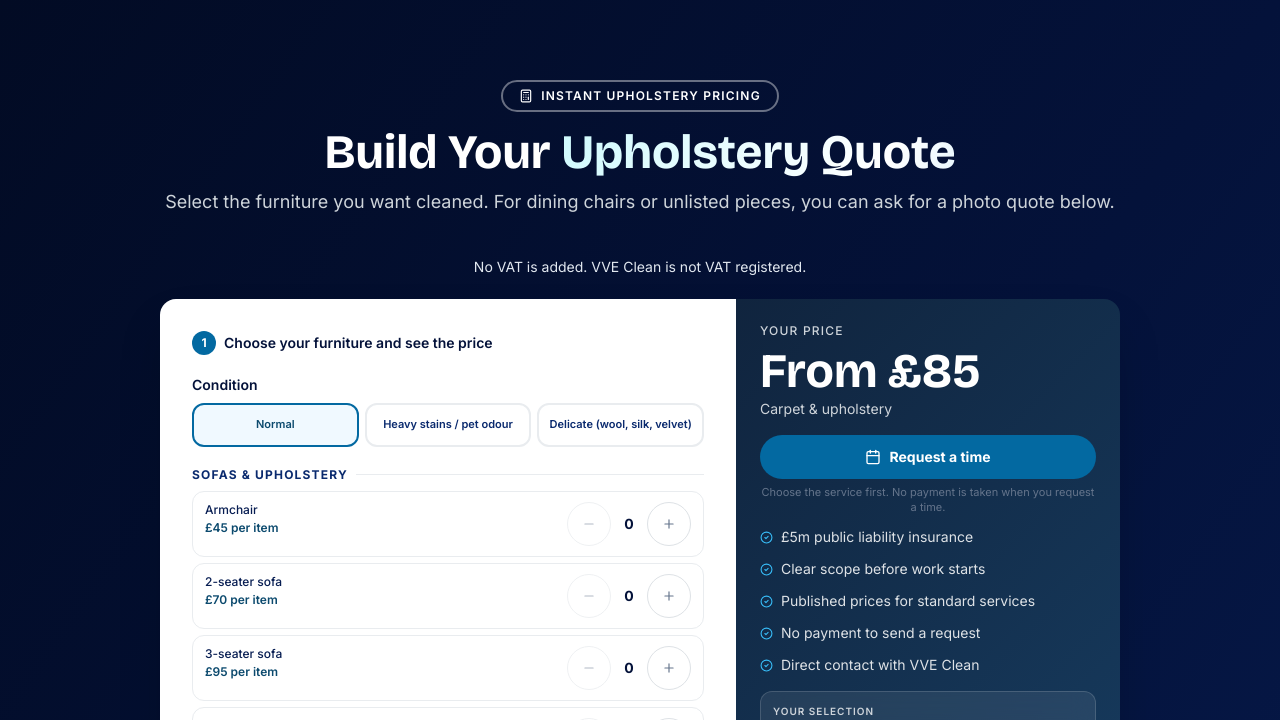
Test: Sofa page — optional carpet disclosure › clears carpet quantities when the customer goes back to No
Click the button named "Increase 3-seater sofa quantity" at {"x": 669, "y": 668}, box left=647, top=646, right=691, bottom=690
(page scrolled)
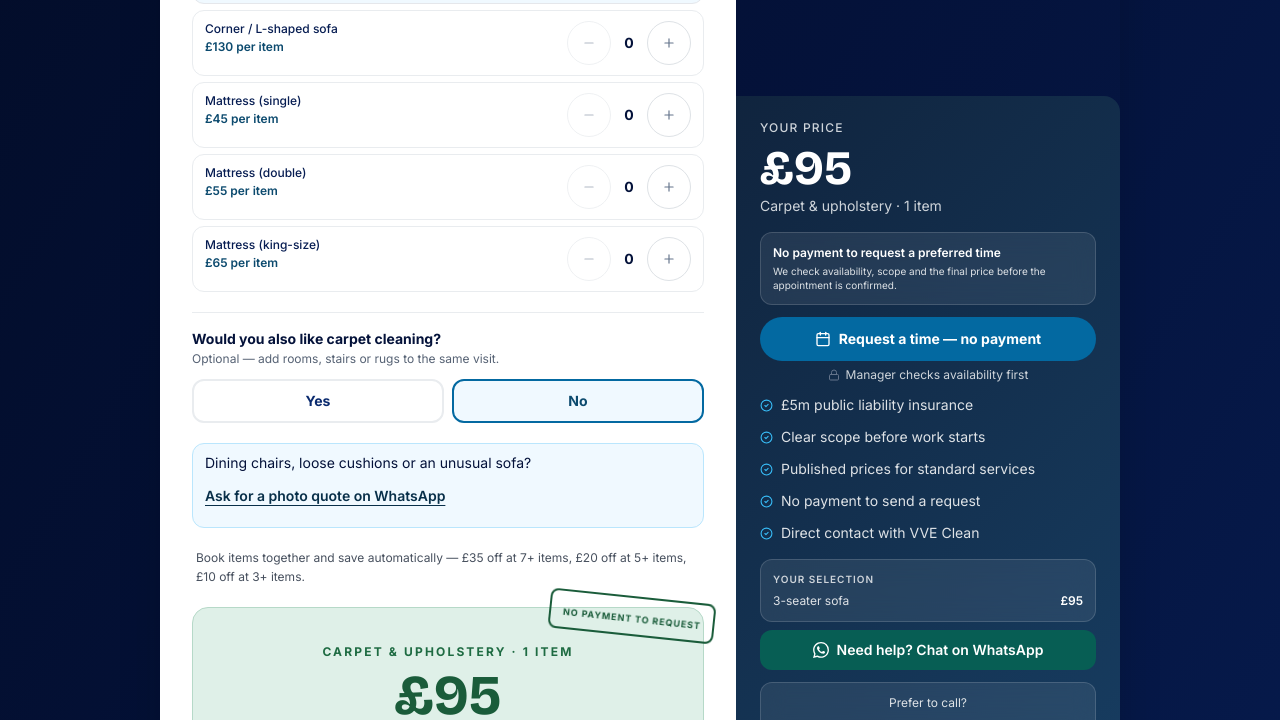
Click the button "Yes" at {"x": 318, "y": 401}, box left=192, top=379, right=444, bottom=423
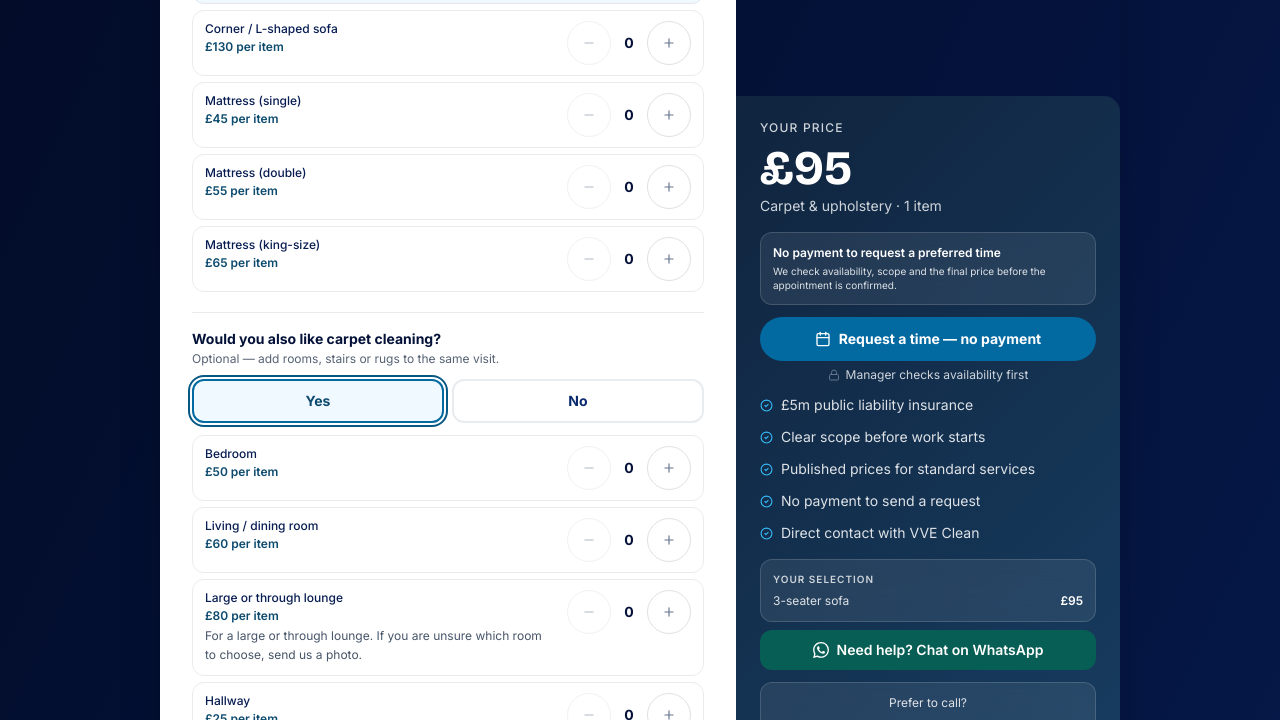
Click the button named "Increase Bedroom quantity" at {"x": 669, "y": 468}, box left=647, top=446, right=691, bottom=490
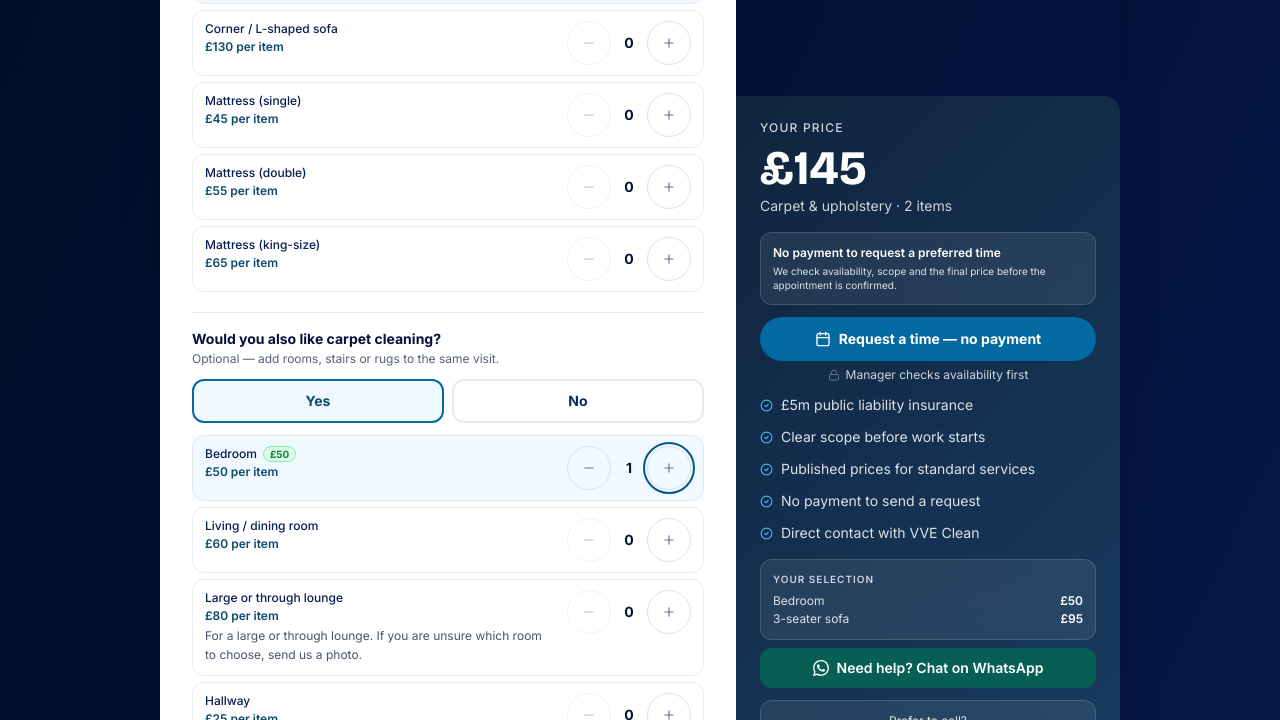
Click the button "No" at {"x": 578, "y": 401}, box left=452, top=379, right=704, bottom=423
(page scrolled)
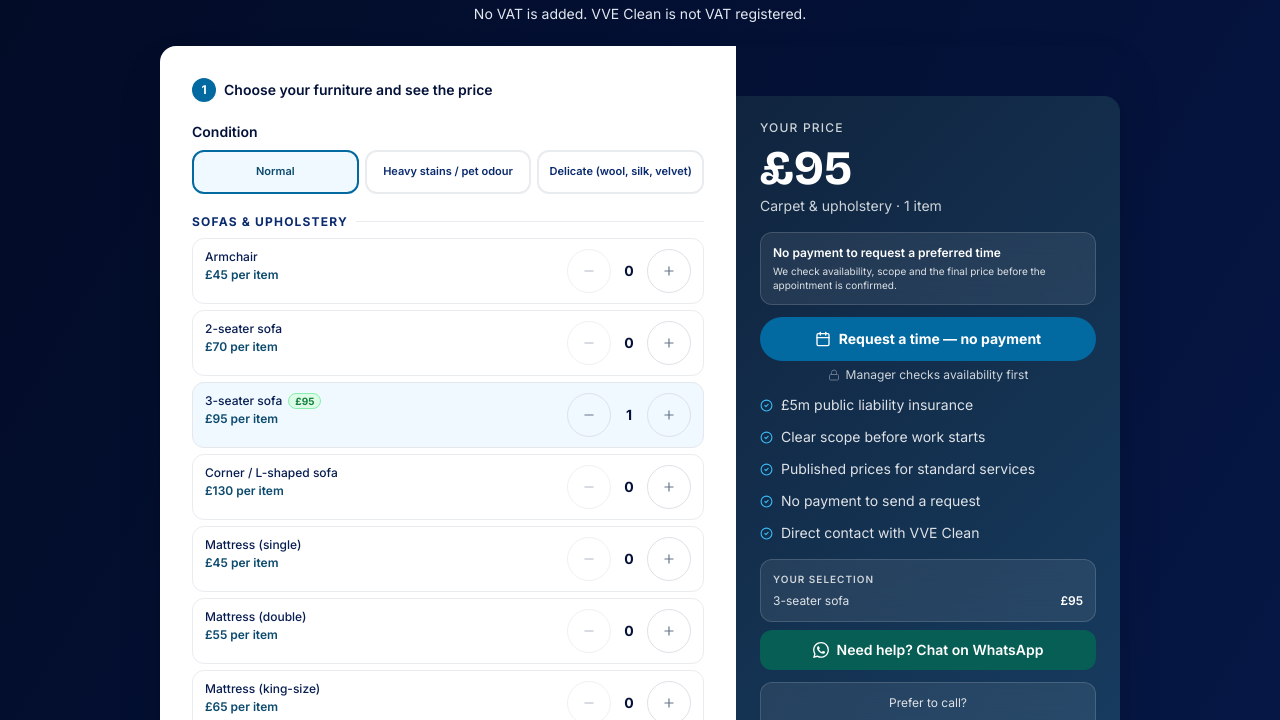
Expected: the text "£95" below "£70 per item" is shown, left=288, top=393, right=321, bottom=409
Expected: the text "£145" is gone
